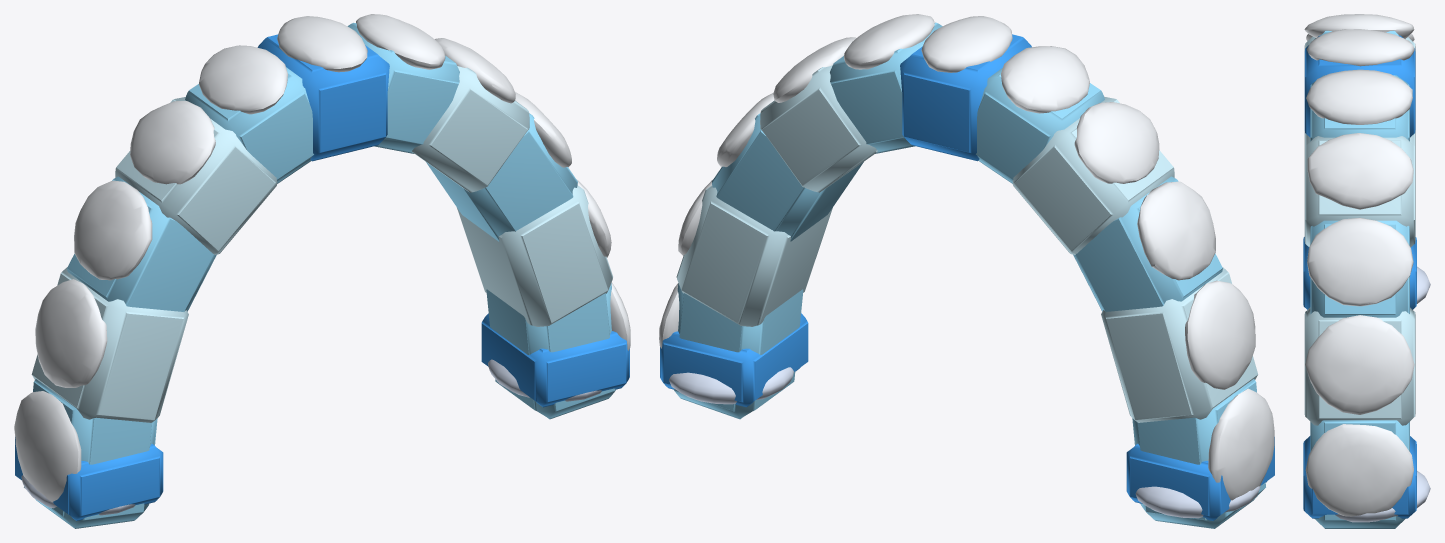
The model's file is IceArch.glb.
The picture shows the model from 3 angles, left to right: view 1: azimuth 30°, elevation 25°; view 2: azimuth 150°, elevation 25°; view 3: azimuth 270°, elevation 25°; orthographic projection. The views are drawn at different scales.
Parts seen in each view (by area): view 1: IceArch; view 2: IceArch; view 3: IceArch.
Part boxes in pixels (x1,y1,x2,y2): IceArch: (14,14,630,528); IceArch: (659,14,1274,528); IceArch: (1303,14,1430,528).
Bounding box in the file's own units: 42.31 × 29.71 × 8.97.
Materials: 1 (1 with a texture image).
